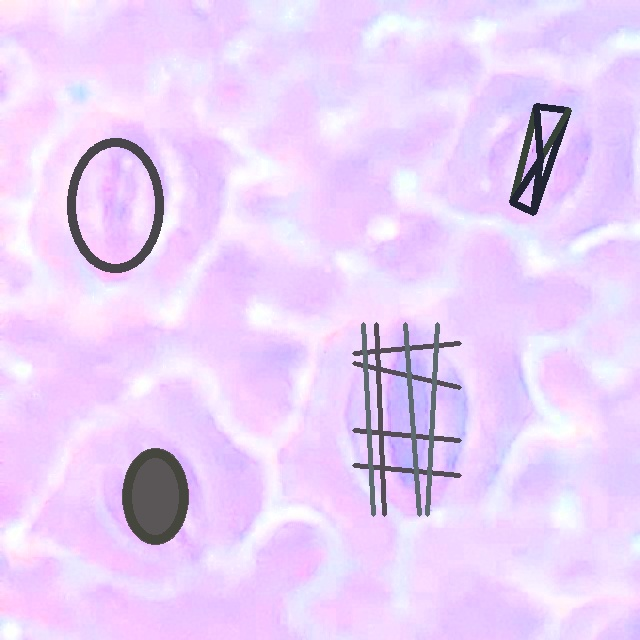open: (352, 322, 461, 516), (66, 138, 164, 273), (510, 104, 571, 214), (122, 449, 188, 544)
